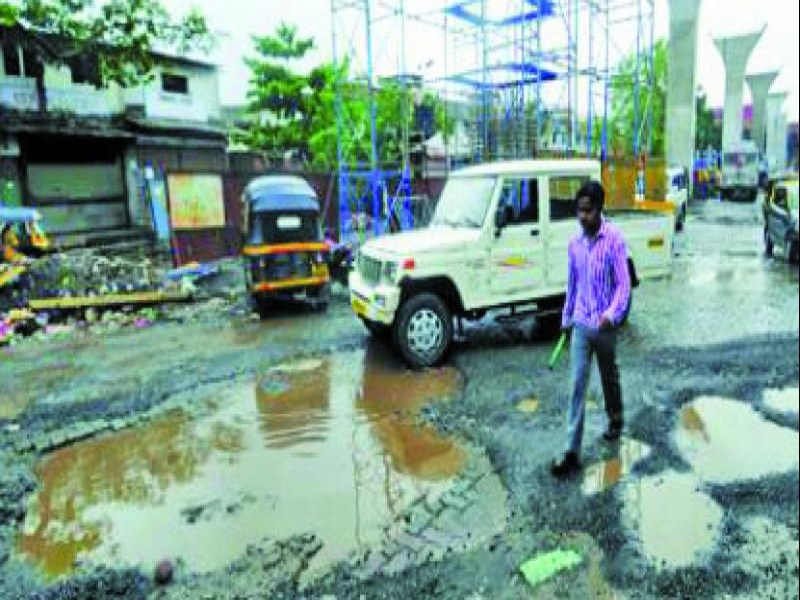pothole: (7, 346, 519, 591), (668, 387, 800, 485), (622, 473, 723, 573), (564, 429, 660, 497), (200, 313, 326, 360), (761, 382, 800, 417), (516, 392, 543, 417)
